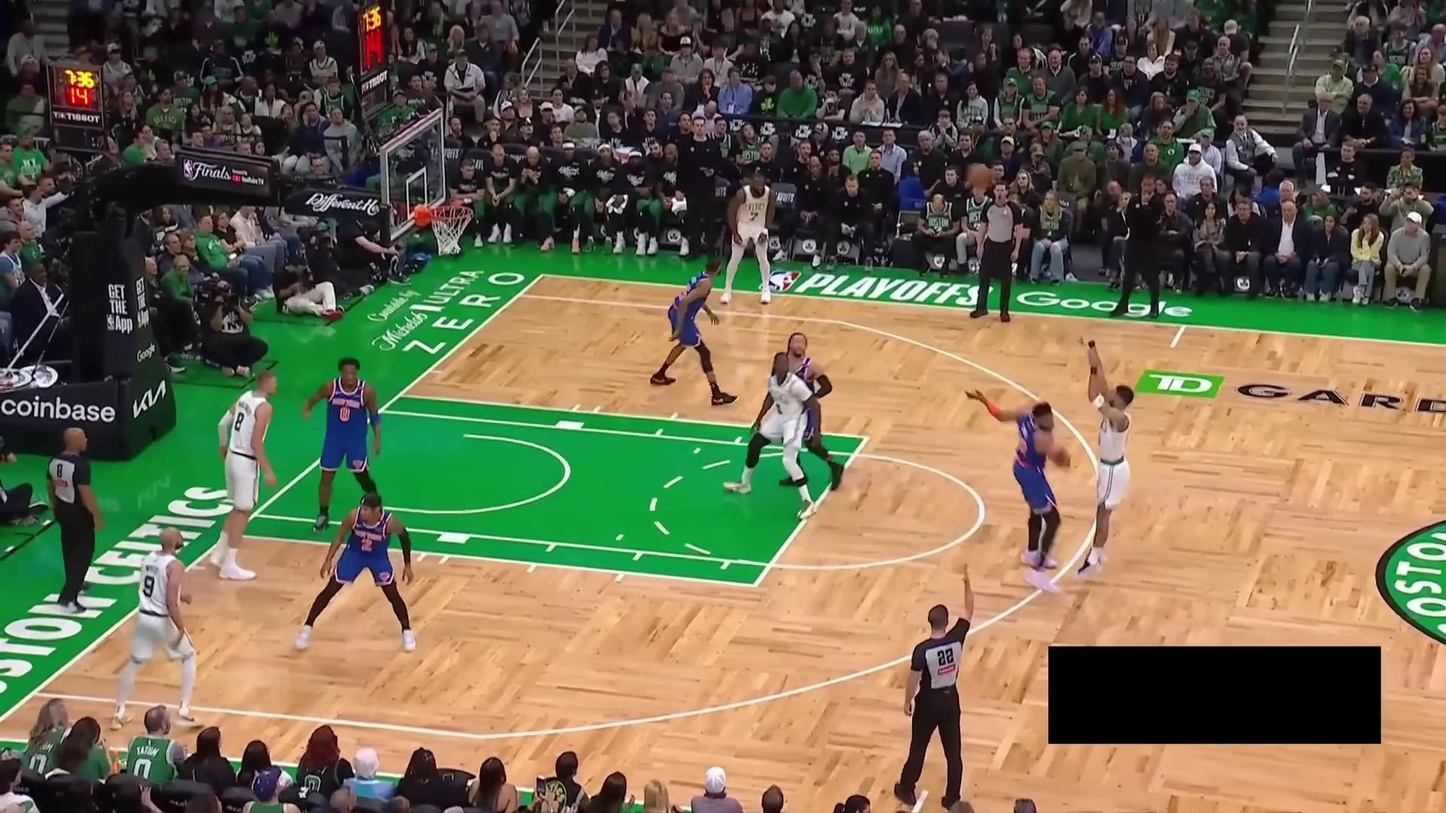ball: (967, 163, 991, 188)
number: (142, 575, 154, 598), (337, 405, 352, 422), (234, 411, 246, 432), (361, 538, 374, 553), (748, 209, 759, 223), (775, 401, 785, 416)
player: (963, 384, 1072, 596), (292, 492, 417, 654), (108, 525, 205, 732), (721, 352, 822, 521), (210, 367, 279, 581), (302, 355, 383, 535), (648, 257, 739, 406), (774, 330, 847, 492), (718, 169, 777, 306)
player-jump-shot: (1078, 336, 1136, 582)
referee: (894, 561, 975, 812), (45, 427, 105, 614), (969, 180, 1025, 324)
rim: (429, 203, 474, 221)
